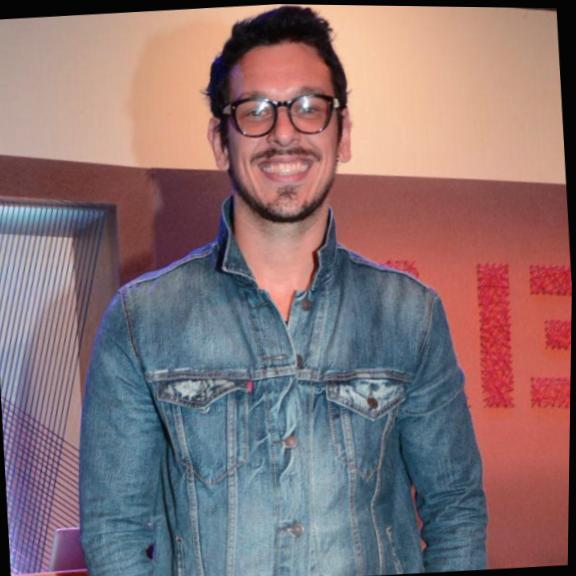no_safety_vest: (51, 217, 507, 576)
